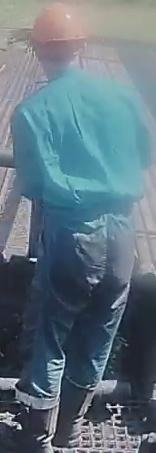helmet: (31, 2, 89, 54)
vest: (10, 75, 156, 225)
